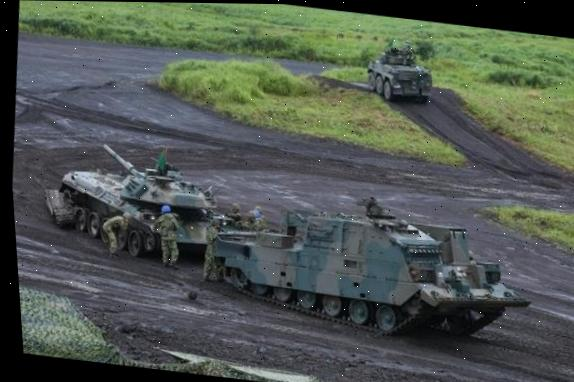armored_car: (204, 182, 539, 349), (360, 37, 443, 105)
tank: (36, 132, 227, 264)
